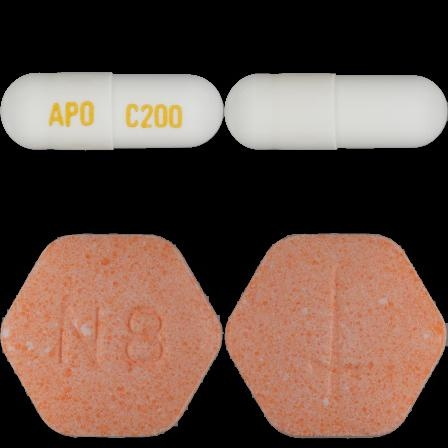33358-902: (0, 0, 224, 224)
